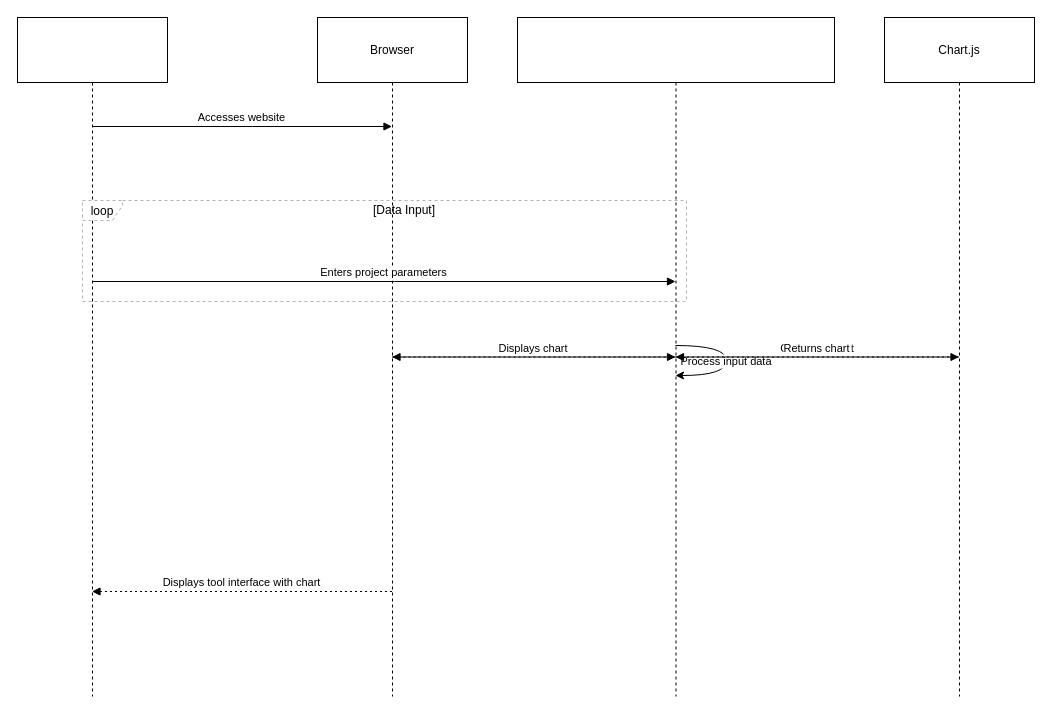
Some shapes in this 1052 by 714 pixel diagram are drawn without their labels. The box of each missing label's shape, as (x1, y1, x2, y2) in pixels:
"AEC Carbon Projection Tool (Client-Side)": (516, 16, 834, 696)
User: (16, 16, 168, 696)
